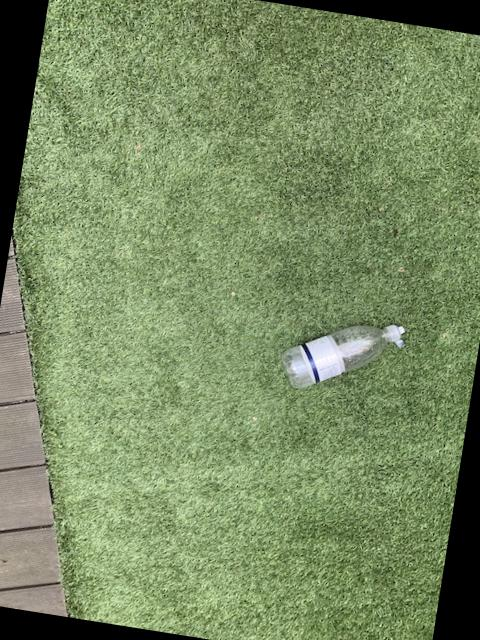plastic: (280, 325, 402, 387)
